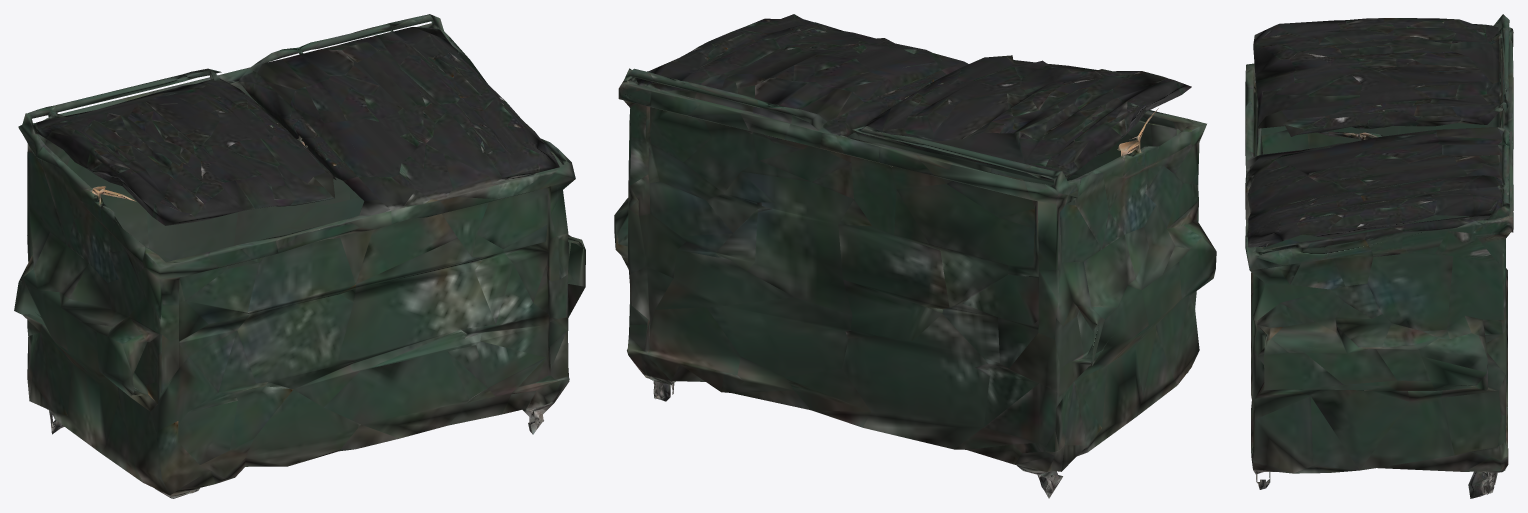
Rendered from benne.glb.
The picture shows the model from 3 angles, left to right: view 1: azimuth 30°, elevation 25°; view 2: azimuth 150°, elevation 25°; view 3: azimuth 270°, elevation 25°; orthographic projection. The views are drawn at different scales.
Size of the model in its own units: 1.9 by 1.3 by 1.03.
1 material, 1 textured.
